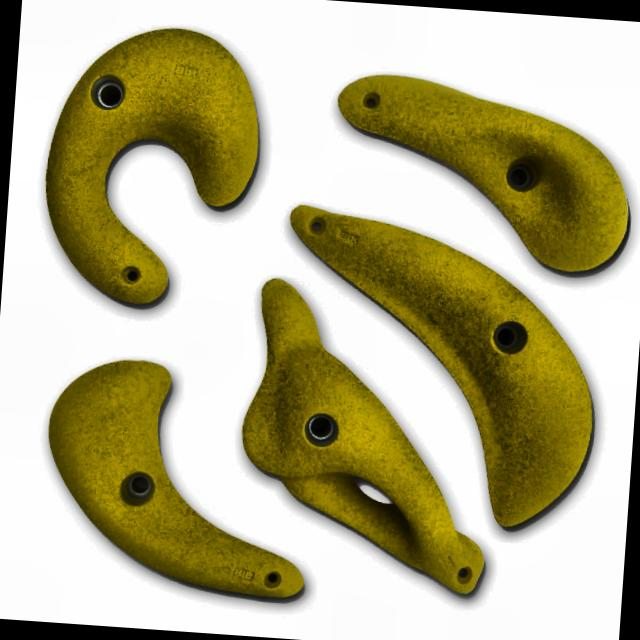Hold: (276, 191, 626, 556), (215, 265, 509, 622), (46, 347, 321, 619), (319, 59, 638, 290), (36, 20, 280, 317)
